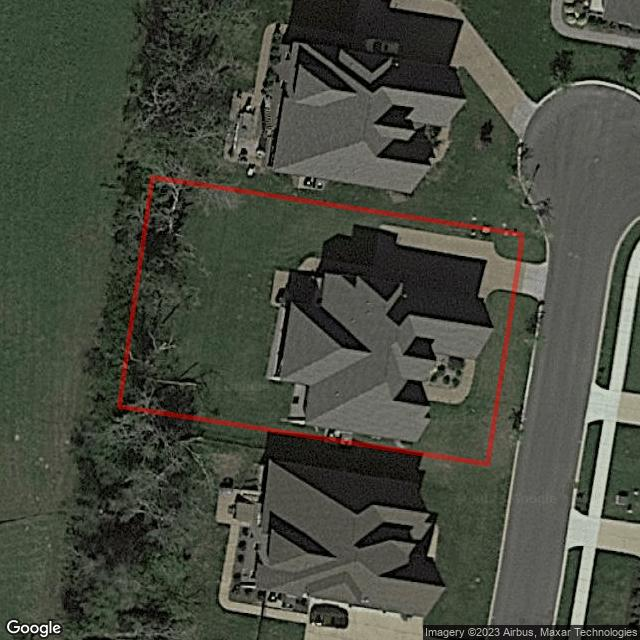Driveway: (272, 224, 514, 305)
Extra Driveway: (519, 261, 548, 298)
Extra Lawn: (491, 294, 538, 470), (522, 234, 546, 264)
House: (266, 271, 496, 443)
